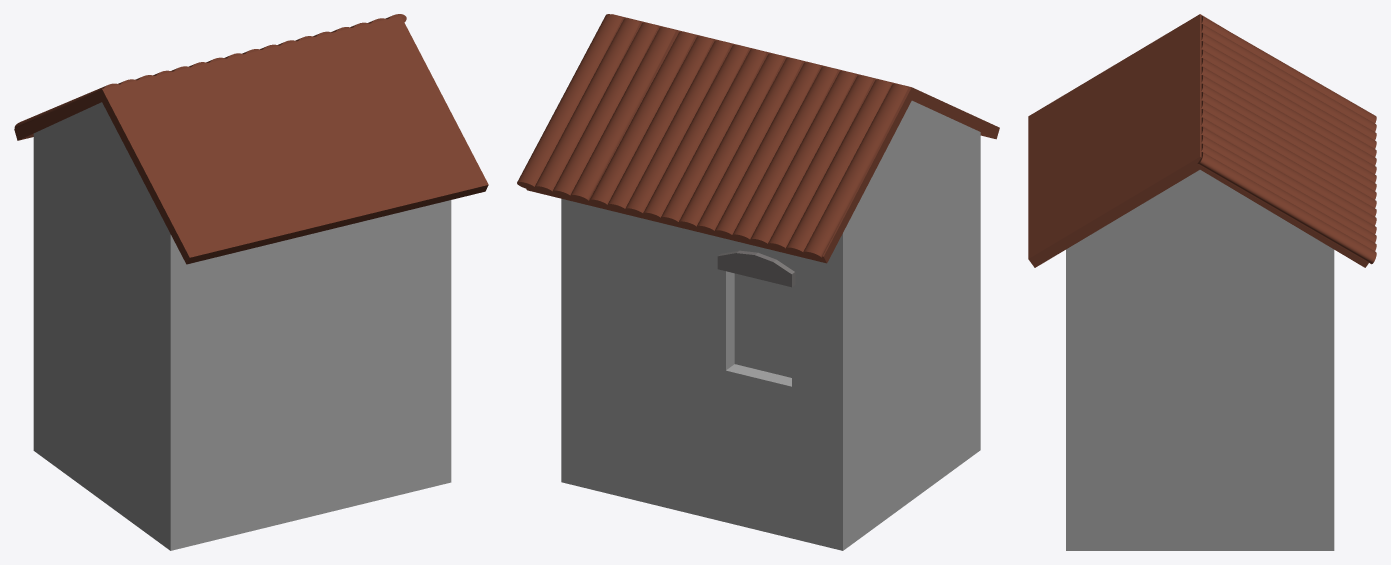
Rendered from TM_BridgeHouse_02.fbx.
The picture shows the model from 3 angles, left to right: view 1: azimuth 30°, elevation 25°; view 2: azimuth 150°, elevation 25°; view 3: azimuth 270°, elevation 25°; orthographic projection. The views are drawn at different scales.
Visible parts, largest first — view 1: pCylinder51; view 2: pCylinder51; view 3: pCylinder51.
Boxes of the visible parts, x1,y1,x2,y2 form: pCylinder51: (14, 14, 488, 550); pCylinder51: (517, 14, 999, 550); pCylinder51: (1028, 14, 1376, 550).
Size of the model in its own units: 1170 by 1516 by 1184.
